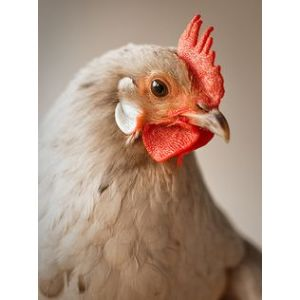hen: (38, 9, 265, 300)
